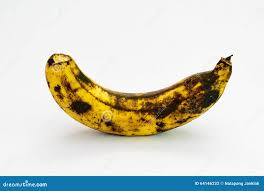banana: (43, 51, 234, 137)
